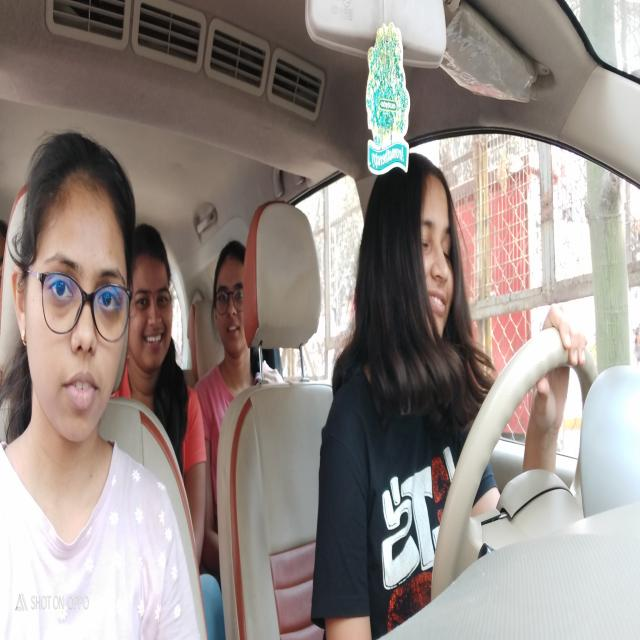drowsy: (357, 147, 473, 400)
person: (13, 125, 133, 449), (131, 212, 177, 392), (211, 223, 256, 384)
